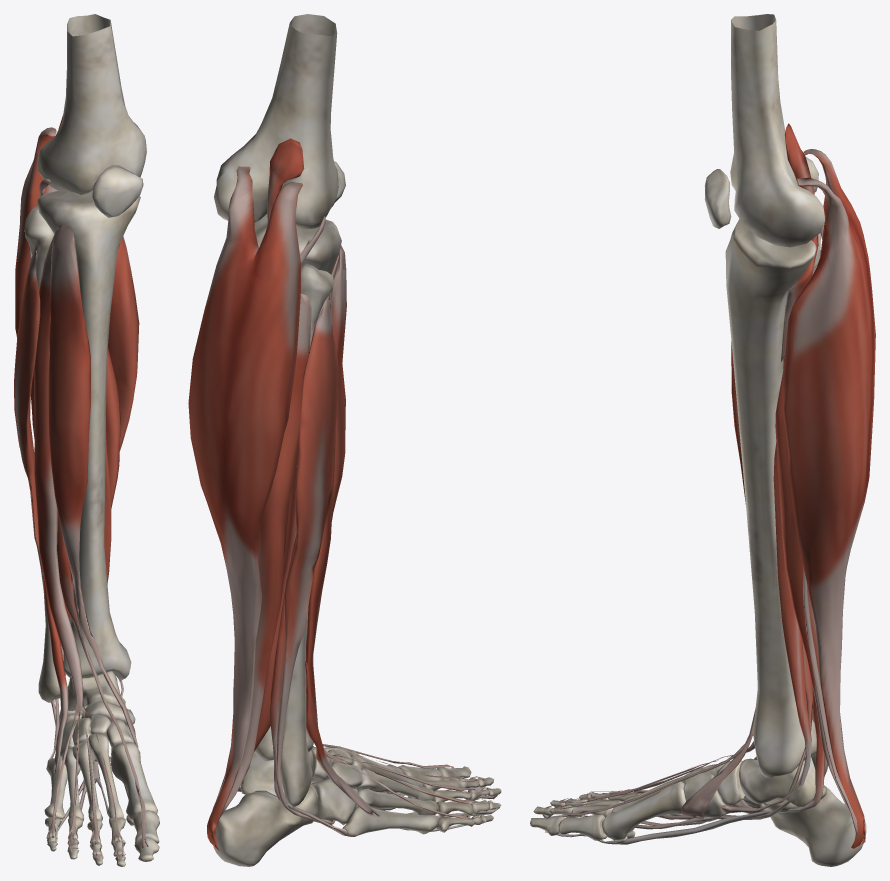
The model's file is leg-muscles.glb.
3 renders of one model, left to right at view 1: azimuth 30°, elevation 25°; view 2: azimuth 150°, elevation 25°; view 3: azimuth 270°, elevation 25°, orthographic. The views are drawn at different scales.
Parts seen in each view (by area): view 1: Right_tibia, Right_tibialis_anterior, Right_femur, Right_extensor_digitorum_longus, Right_gastrocnemius, Right_fibularis_longus, Right_fibula, Right_patella, Right_extensor_hallucis_longus, Right_soleus, Right_1st_metatarsal_bone, Right_fibularis_tertius (+13 smaller); view 2: Right_gastrocnemius, Right_femur, Right_fibularis_longus, Right_soleus, Right_calcaneus, Right_fibula, Right_extensor_digitorum_longus, Right_tibialis_anterior, Right_tibia, Right_flexor_hallucis_longus, Right_fibularis_brevis, Right_5th_metatarsal_bone (+6 smaller); view 3: Right_gastrocnemius, Right_tibia, Right_femur, Right_flexor_digitorum_longus, Right_soleus, Right_calcaneus, Right_talus, Right_plantaris, Right_1st_metatarsal_bone, Right_flexor_hallucis_longus, Right_tibialis_anterior, Right_patella (+6 smaller).
Part boxes in pixels (box(x1,y1,x2,y2)): Right_tibia: box(37, 190, 140, 680); Right_tibialis_anterior: box(48, 224, 138, 747); Right_femur: box(37, 14, 146, 195); Right_extensor_digitorum_longus: box(33, 225, 123, 859); Right_gastrocnemius: box(15, 127, 139, 451); Right_fibularis_longus: box(14, 240, 111, 765); Right_fibula: box(24, 205, 65, 702); Right_patella: box(91, 165, 143, 217); Right_extensor_hallucis_longus: box(57, 511, 148, 849); Right_soleus: box(29, 246, 120, 508); Right_1st_metatarsal_bone: box(110, 741, 157, 819); Right_fibularis_tertius: box(43, 575, 68, 773); Right_gastrocnemius: box(188, 166, 302, 850); Right_femur: box(214, 14, 338, 229); Right_fibularis_longus: box(276, 293, 338, 824); Right_soleus: box(220, 293, 311, 817); Right_calcaneus: box(213, 784, 318, 866); Right_fibula: box(280, 263, 334, 807); Right_extensor_digitorum_longus: box(306, 253, 494, 819); Right_tibialis_anterior: box(306, 245, 346, 746); Right_tibia: box(254, 214, 341, 761); Right_flexor_hallucis_longus: box(237, 467, 405, 796); Right_fibularis_brevis: box(270, 532, 348, 835); Right_5th_metatarsal_bone: box(342, 806, 439, 836); Right_gastrocnemius: box(782, 149, 875, 848); Right_tibia: box(725, 219, 816, 778); Right_femur: box(730, 14, 825, 247); Right_flexor_digitorum_longus: box(542, 443, 811, 829); Right_soleus: box(775, 250, 855, 834); Right_calcaneus: box(763, 785, 866, 866); Right_talus: box(738, 757, 826, 806); Right_plantaris: box(784, 123, 857, 840); Right_1st_metatarsal_bone: box(602, 781, 685, 840); Right_flexor_hallucis_longus: box(545, 684, 825, 844); Right_tibialis_anterior: box(681, 342, 755, 819); Right_patella: box(704, 169, 731, 228).
Bounding box in the file's own units: 0.1429 × 0.5828 × 0.219.
Materials: 45 (45 with a texture image).
